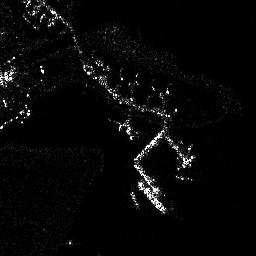ship: (136, 178, 166, 212)
